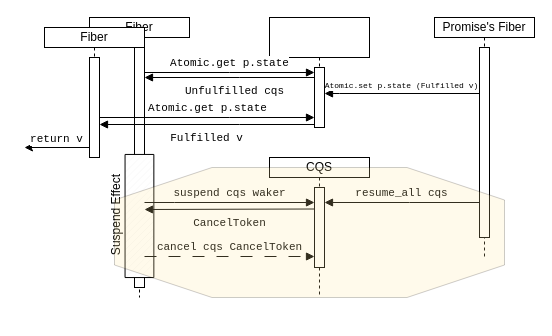
Image size: 552x336. Some labels were removed from this diagram. Each missing label, with the centre of its shape:
"Promise atomic(state)" belongs at point (319, 72).
"suspend/resume_all/cancel operations can race" belongs at point (309, 232).
